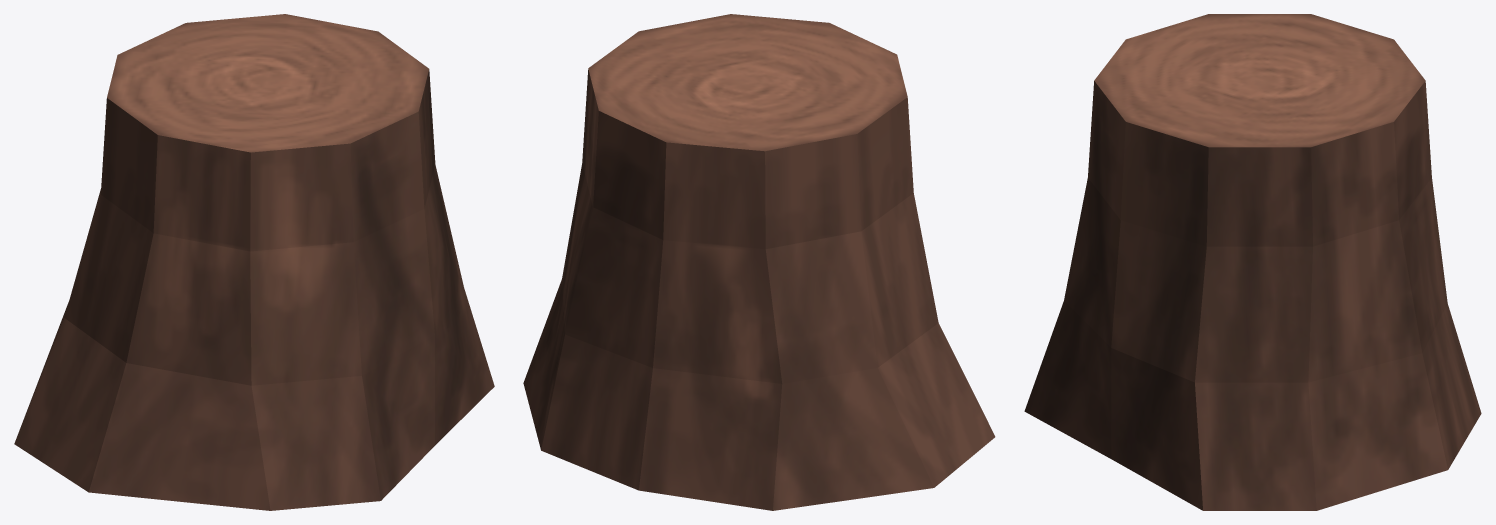
The model's file is ARC0710092.fbx.
The picture shows the model from 3 angles, left to right: view 1: azimuth 30°, elevation 25°; view 2: azimuth 150°, elevation 25°; view 3: azimuth 270°, elevation 25°; orthographic projection.
Parts seen in each view (by area): view 1: smARC0710092; view 2: smARC0710092; view 3: smARC0710092.
Boxes of the visible parts, <box> form: smARC0710092: <box>14,14,494,510</box>; smARC0710092: <box>523,14,995,510</box>; smARC0710092: <box>1024,14,1481,510</box>.
Bounding box in the file's own units: 89.08 × 67.19 × 83.6.
1 material, 1 textured.
